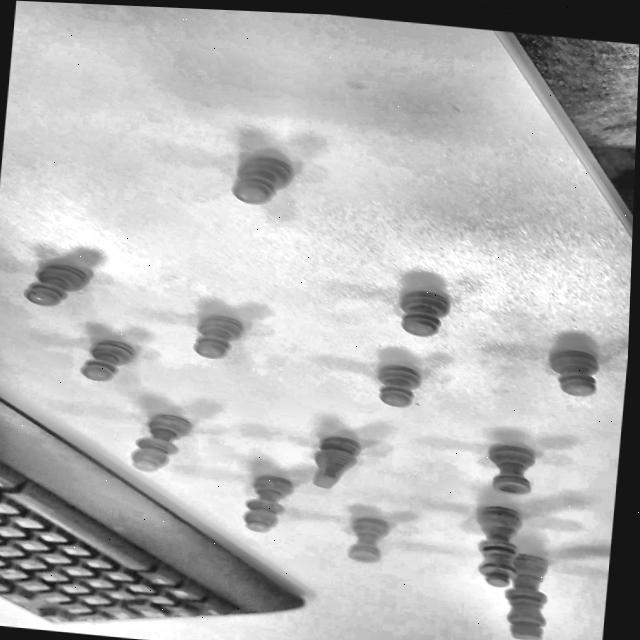white-bishop: (130, 412, 191, 475), (241, 475, 292, 534)
white-king: (502, 554, 553, 640)
white-knight: (312, 435, 362, 491)
white-pawn: (216, 140, 302, 218), (24, 261, 89, 309), (81, 338, 137, 387), (397, 289, 451, 339), (549, 349, 601, 399), (196, 315, 246, 362), (375, 366, 422, 410)
white-queen: (471, 506, 525, 587)
white-rook: (487, 444, 537, 497), (348, 517, 389, 565)
